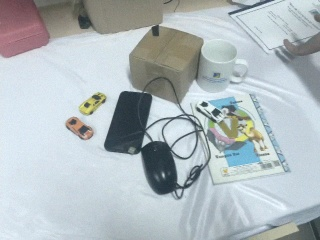book: (190, 90, 293, 186)
box: (128, 23, 204, 104), (77, 1, 164, 36)
cup: (196, 39, 249, 94)
mouse: (140, 140, 179, 196)
phone: (103, 90, 152, 156)
toy_car: (65, 116, 94, 141), (194, 99, 225, 122), (79, 91, 107, 116)
